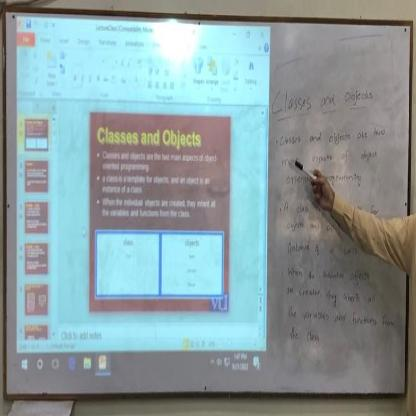Handwritten text: (265, 62, 380, 123), (277, 119, 391, 148), (285, 306, 398, 334), (278, 144, 383, 171), (285, 261, 374, 286), (282, 282, 375, 305), (280, 213, 328, 240)
Whiteboard: (3, 0, 409, 403)
